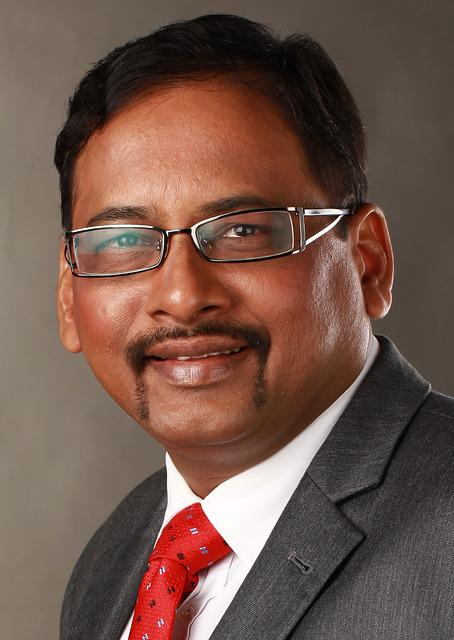human: (26, 17, 454, 640)
